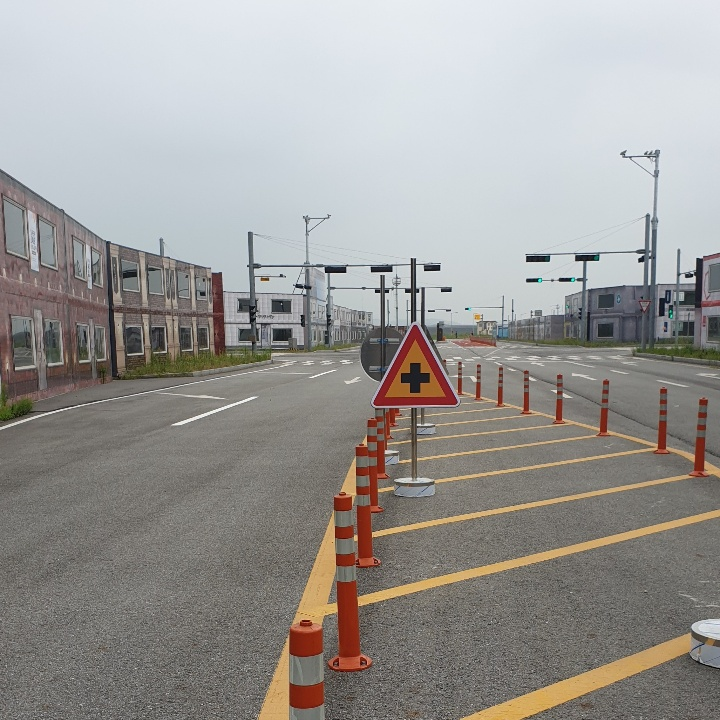inter: (396, 358, 435, 398)
